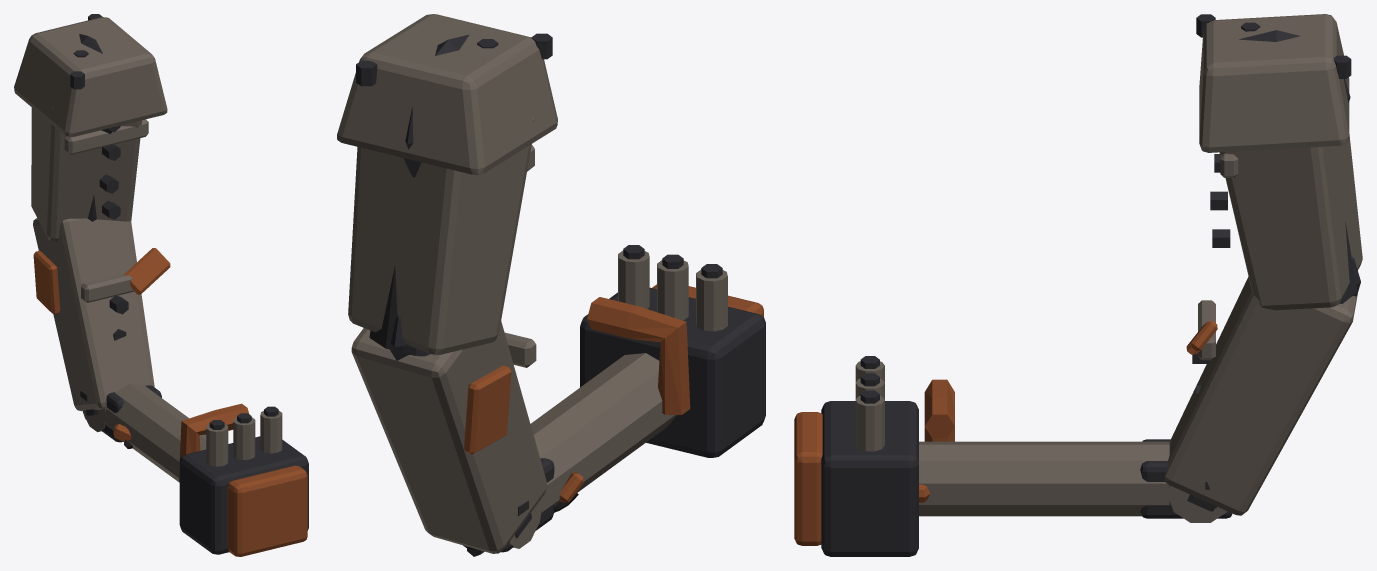
File: ar_hammer.glb
3 views of the same model, side by side, from view 1: azimuth 30°, elevation 25°; view 2: azimuth 150°, elevation 25°; view 3: azimuth 270°, elevation 25° (orthographic). The views are drawn at different scales.
Visible parts, largest first — view 1: ar_hammer; view 2: ar_hammer; view 3: ar_hammer.
Part boxes in pixels (x1,y1,x2,y2): ar_hammer: (14,14,308,556); ar_hammer: (337,14,765,556); ar_hammer: (794,14,1362,556).
Bounding box in the file's own units: 0.0956 × 0.3433 × 0.3541.
